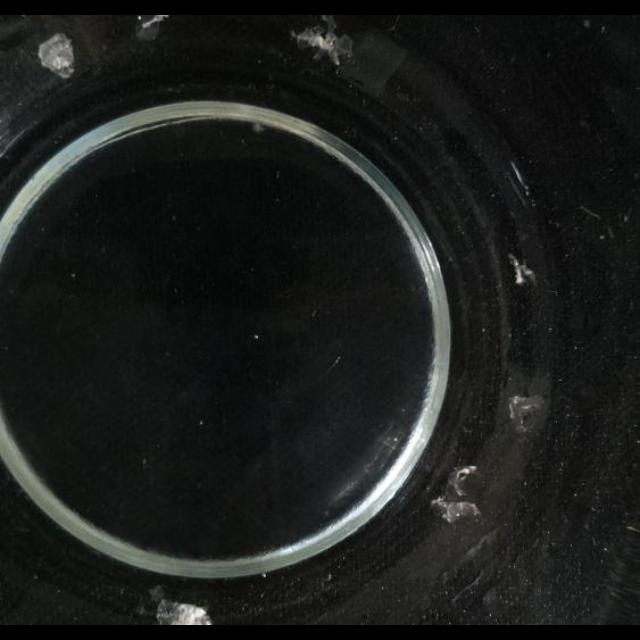Fibre: (340, 421, 410, 499), (294, 15, 354, 66), (432, 466, 482, 524), (144, 588, 212, 626), (38, 33, 76, 77), (508, 393, 546, 432), (508, 255, 534, 288), (507, 164, 529, 203), (138, 16, 172, 40), (623, 206, 633, 224), (251, 121, 265, 132), (583, 20, 591, 28), (600, 25, 606, 33)
microbeads: (331, 356, 341, 369), (310, 308, 318, 318), (324, 573, 332, 583), (275, 169, 281, 179), (141, 458, 147, 467), (198, 419, 204, 426), (253, 334, 259, 340)
